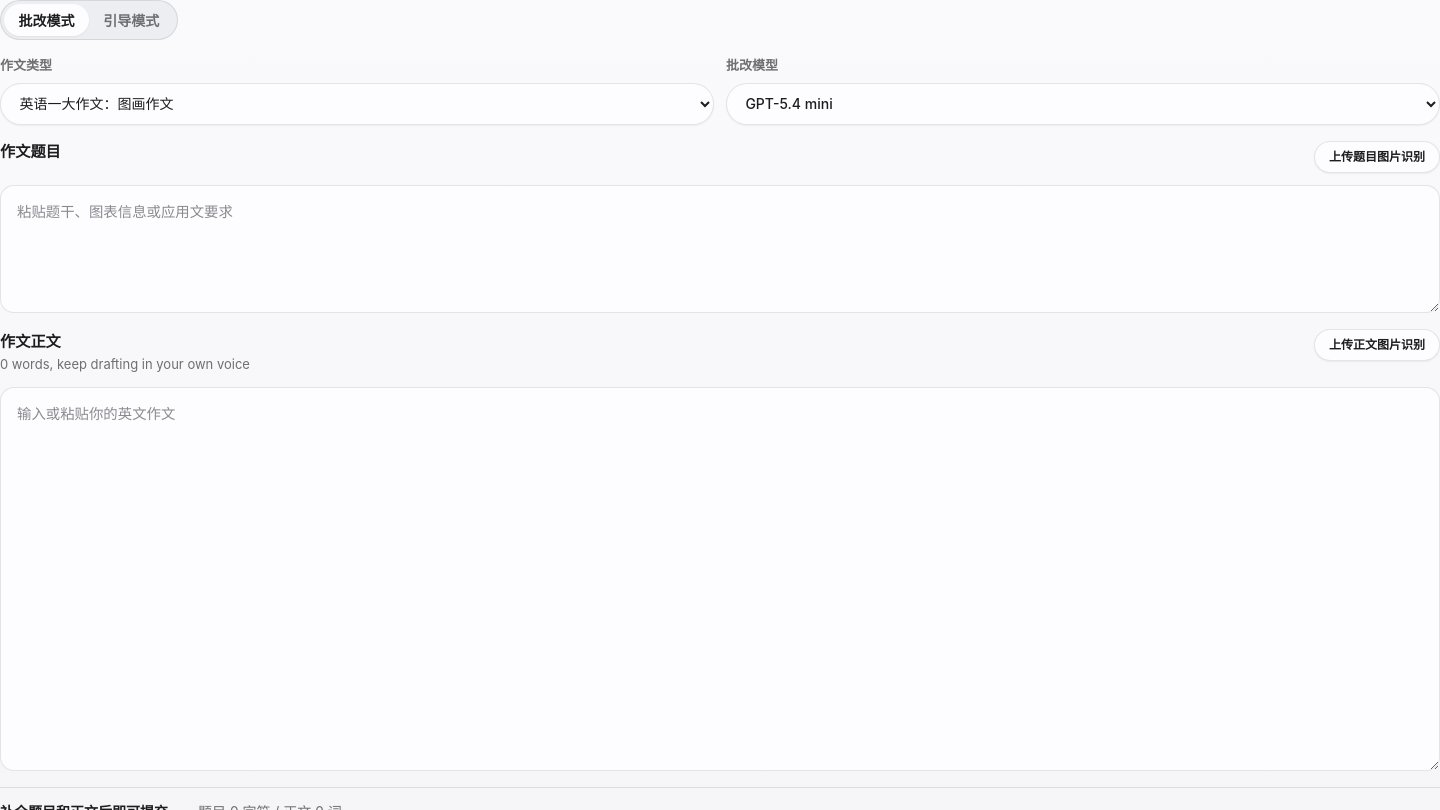
EssaySubmitForm › keeps submit disabled until prompt and content are ready
Type "Write about steady practice." into the text box labelled "作文题目" at (720, 249), box [0, 185, 1439, 313]
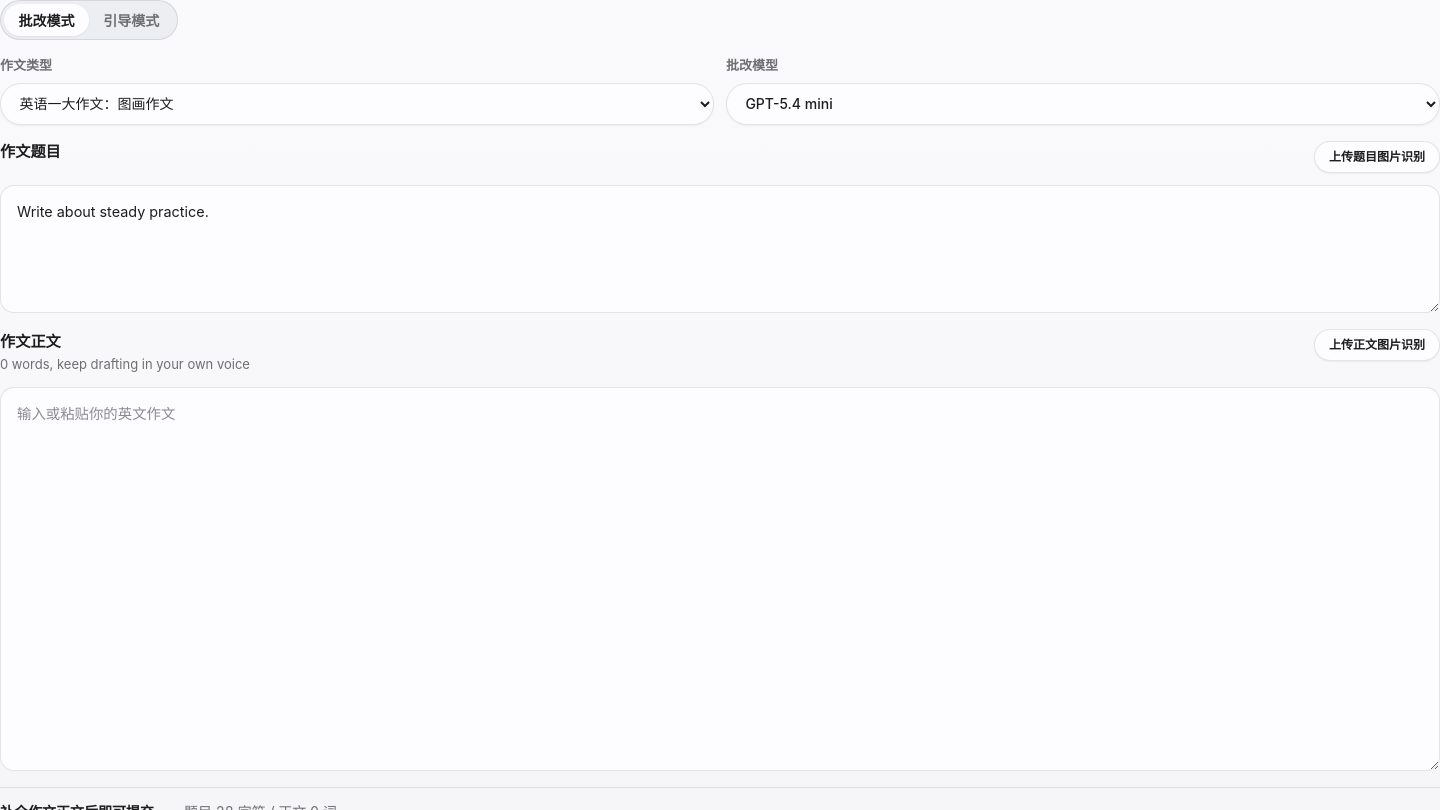
Type "Practice is important for every student." into the text box labelled "作文正文" at (720, 579), box [0, 387, 1439, 771]
(page scrolled)
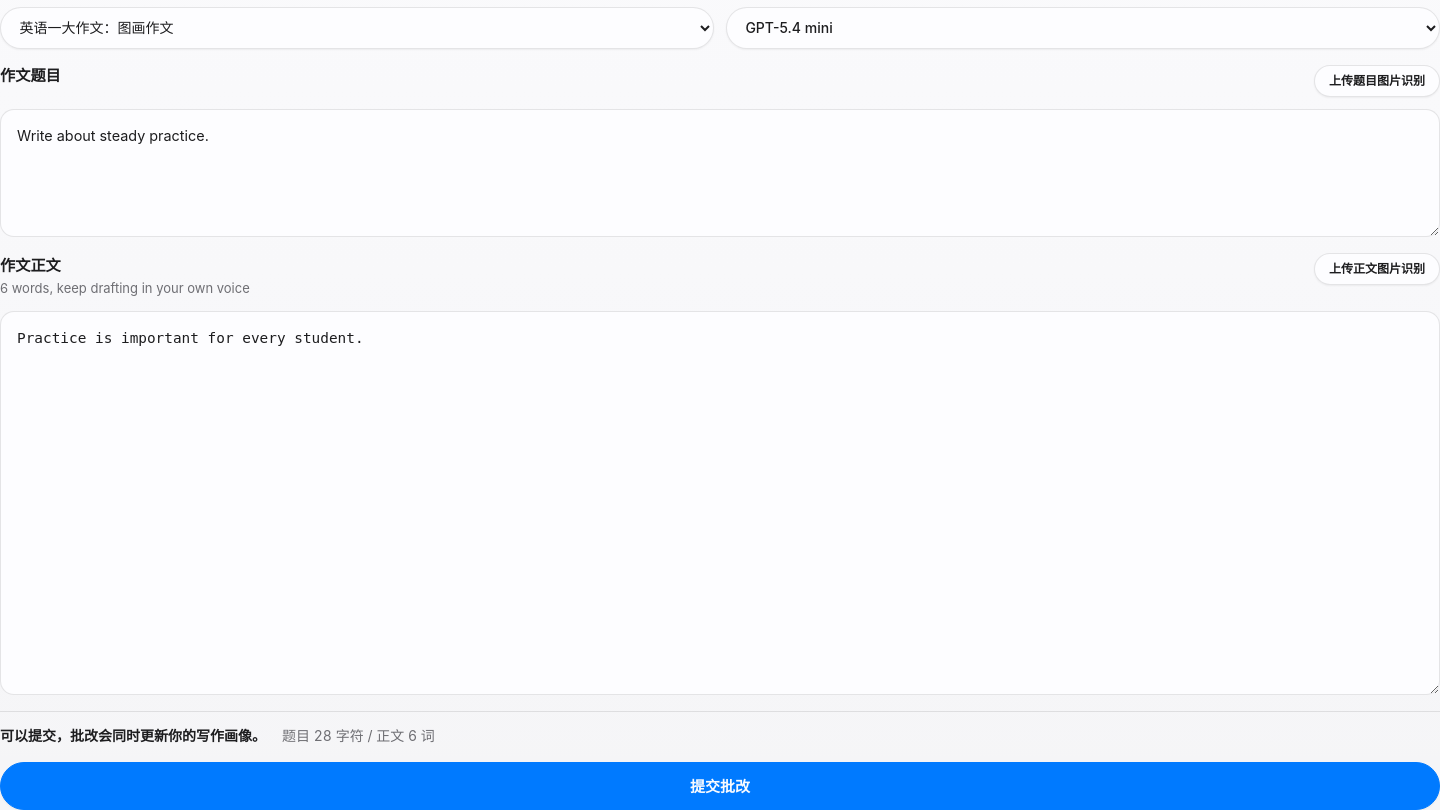
expect the button "提交批改" is enabled: met, box [0, 762, 1439, 809]
expect the message with test id "essay-form-readiness" shows "可以提交": met, box [0, 728, 266, 744]
